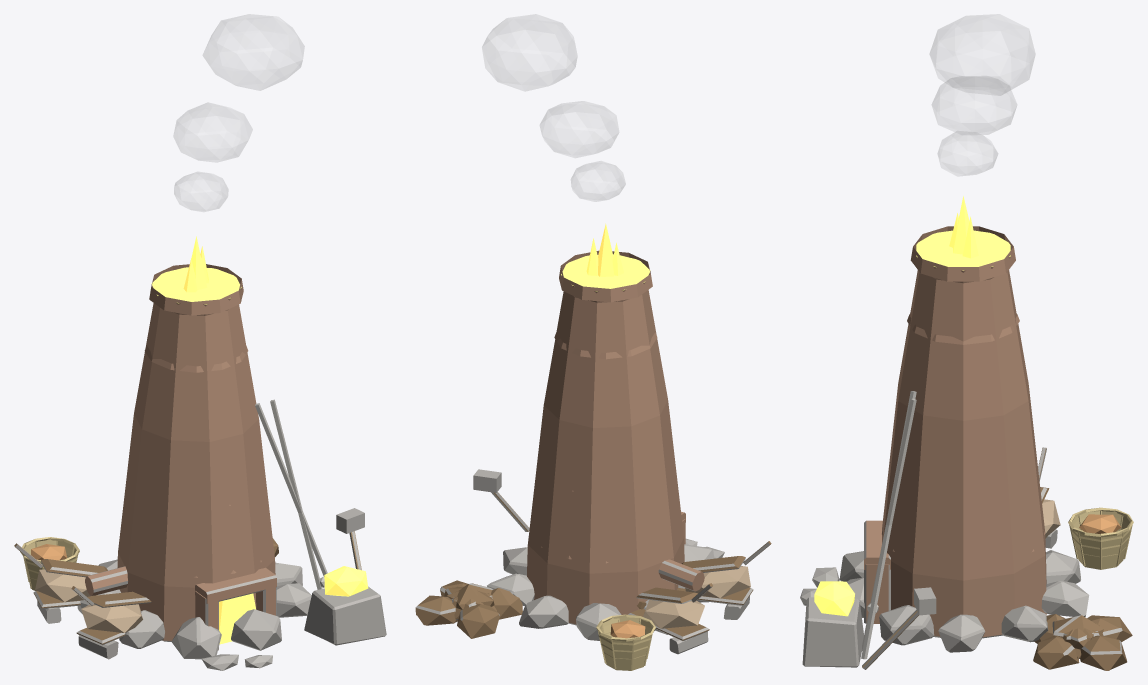
Rendered from w3d_bloomery_working.glb.
3 renders of one model, left to right at view 1: azimuth 30°, elevation 25°; view 2: azimuth 150°, elevation 25°; view 3: azimuth 270°, elevation 25°, orthographic. The views are drawn at different scales.
Visible parts, largest first — view 1: w3d_bloomery_working; view 2: w3d_bloomery_working; view 3: w3d_bloomery_working.
Boxes of the visible parts, x1,y1,x2,y2 form: w3d_bloomery_working: (14,14,386,670); w3d_bloomery_working: (415,14,771,670); w3d_bloomery_working: (800,14,1133,670).
Bounding box in the file's own units: 1.94 × 3.58 × 1.75.
